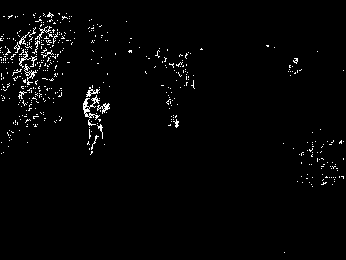person: (80, 85, 112, 155)
